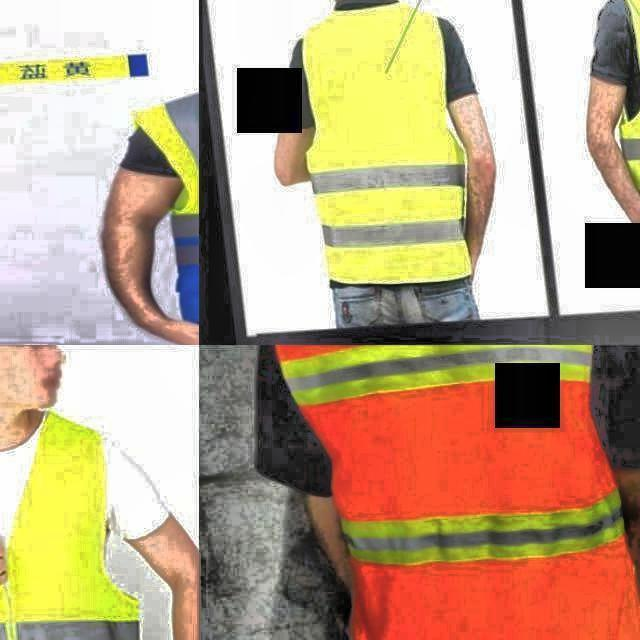safety_jacket: (303, 345, 637, 640), (293, 0, 464, 298), (0, 402, 143, 640)
